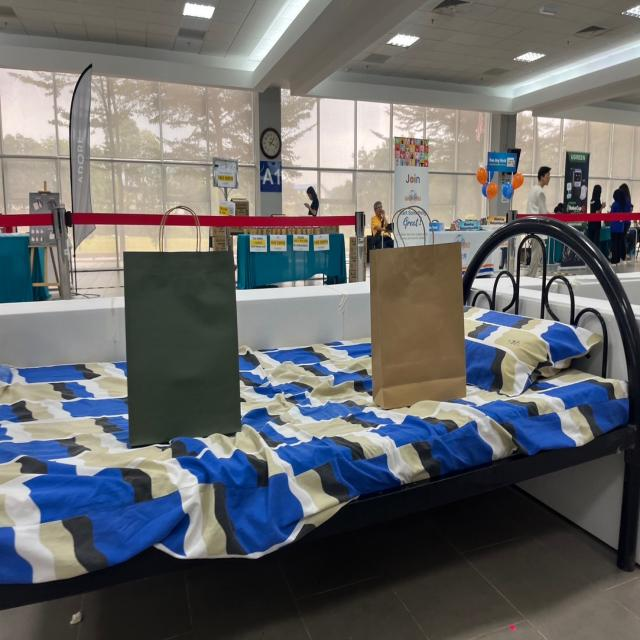bag: (131, 193, 237, 432), (373, 183, 461, 404)
